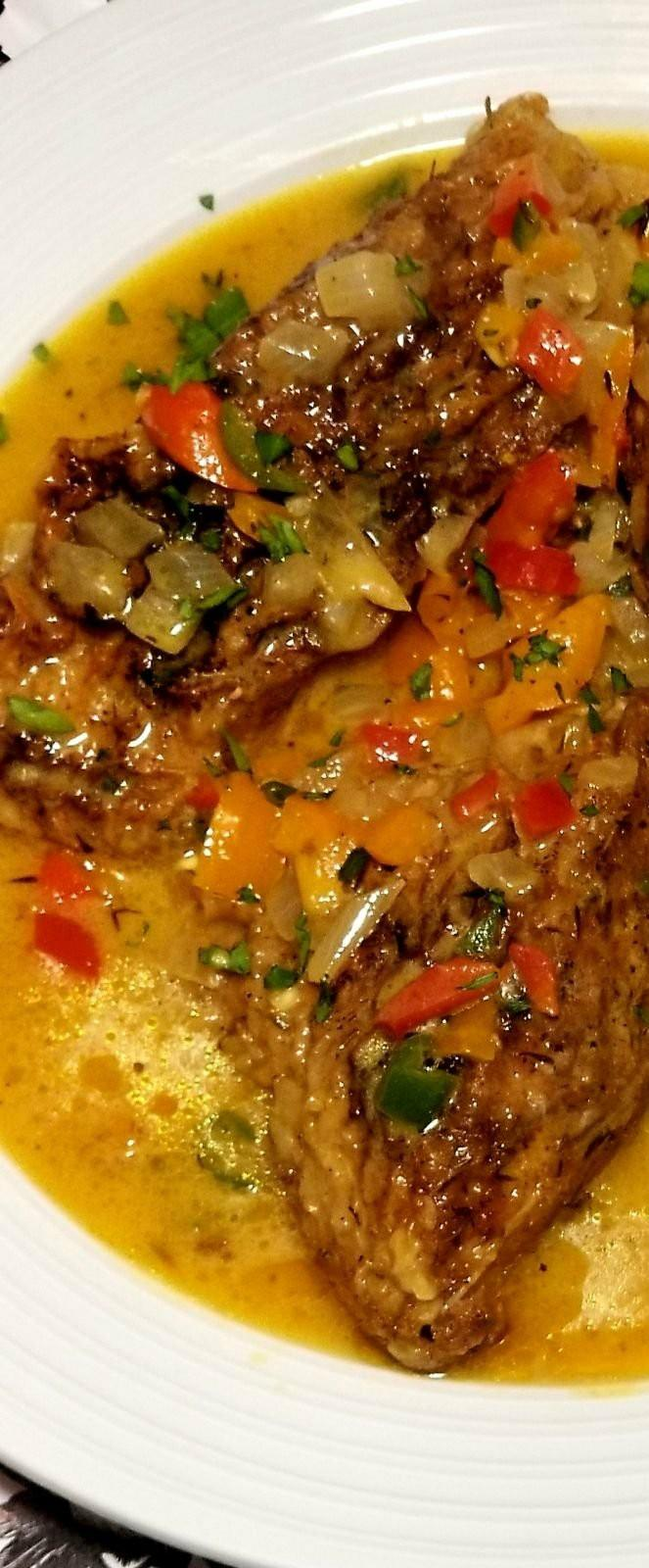FishCurry: (0, 77, 649, 1391)
